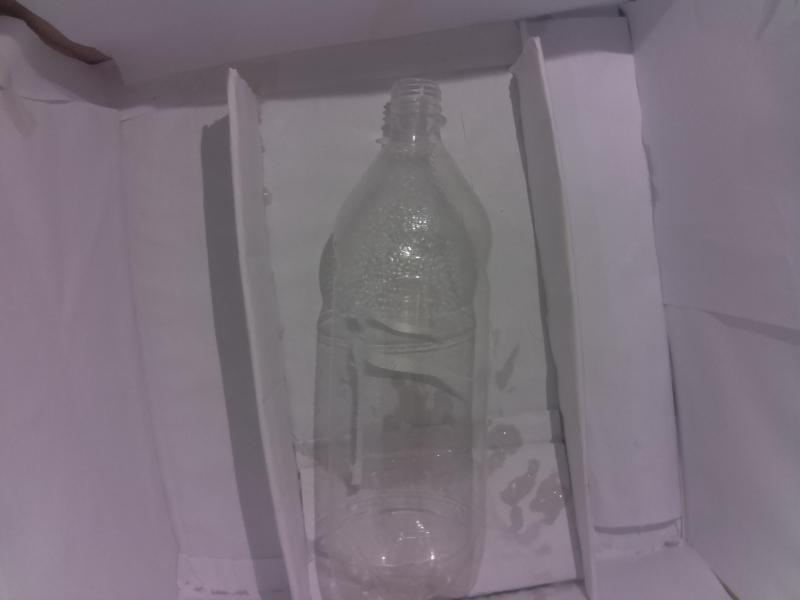BIODEGRADABLE: (305, 60, 503, 600)
